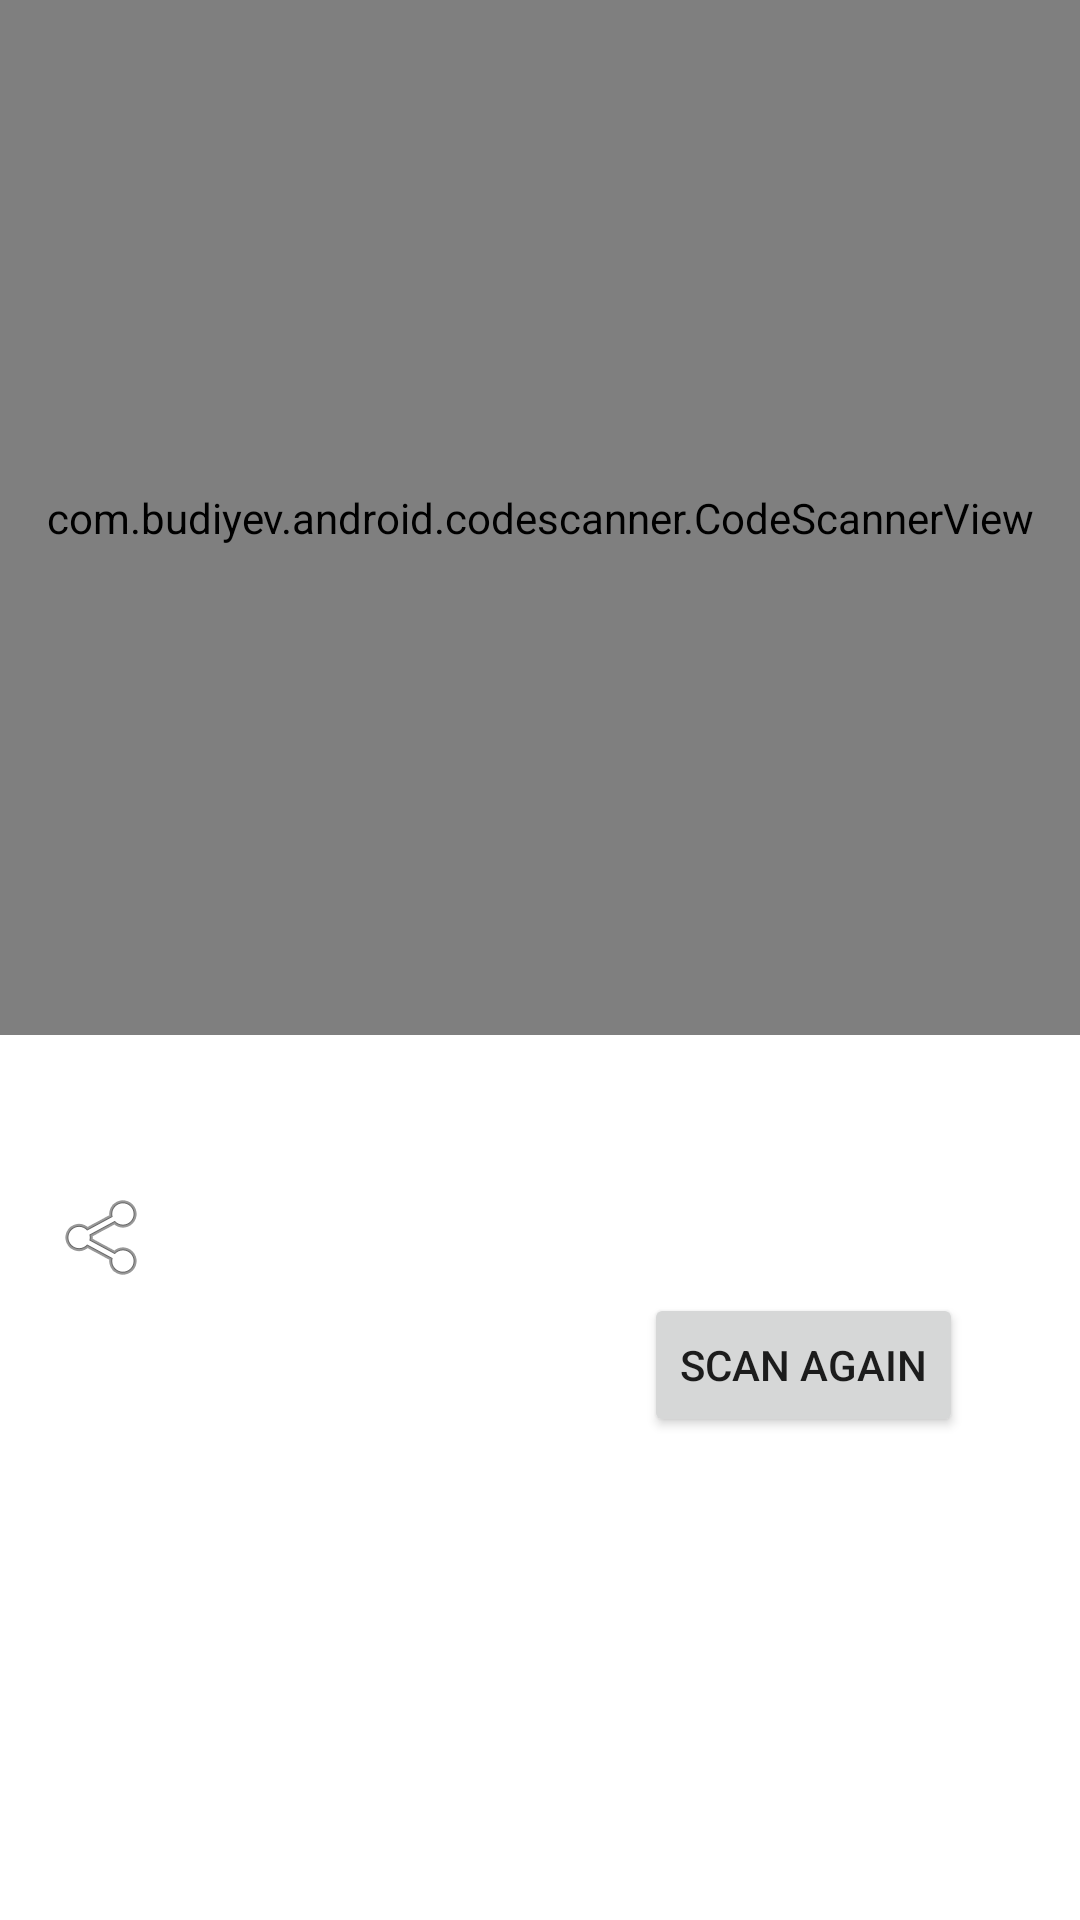

Icons on this 1080*1920 Android screen, each with its box as region(x1, y1, x2, y2):
share: region(65, 1200, 137, 1275)
